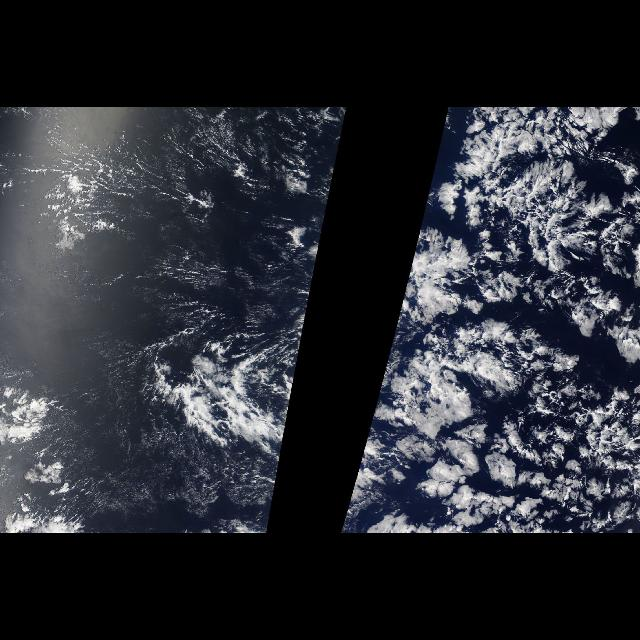Flower: (377, 119, 639, 534)
Sugar: (69, 421, 268, 533)
